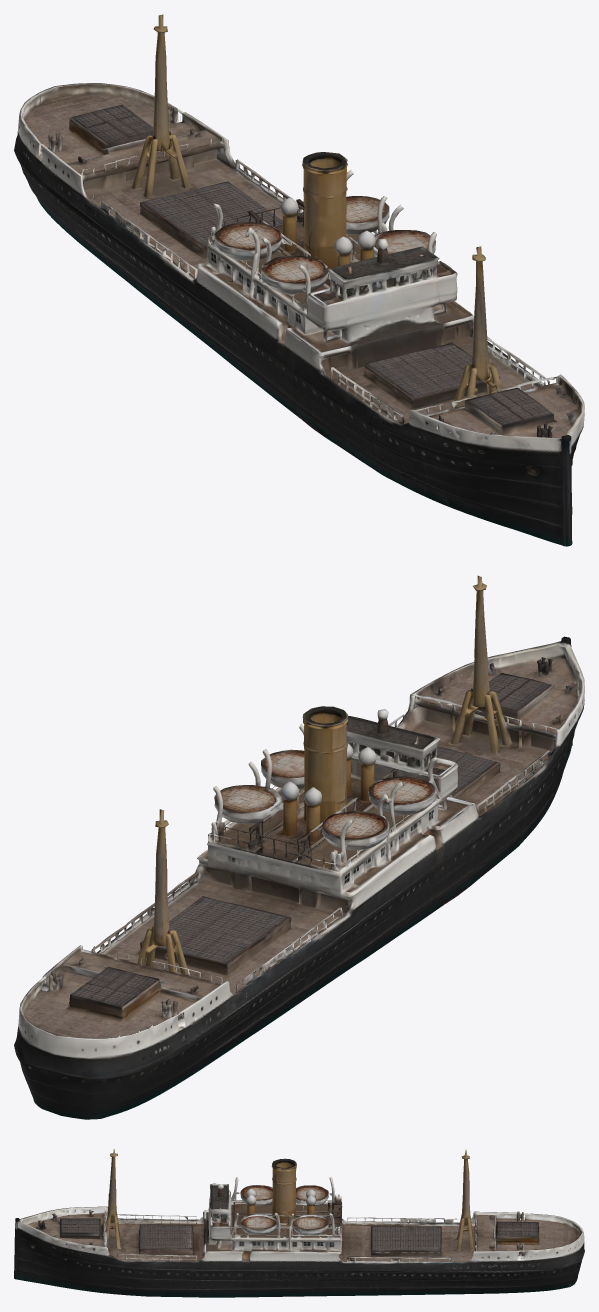
Rendered from vehicle-immigrant-steamer-1948-v2wl.fbx.
3 views of the same model, one above another, from view 1: azimuth 30°, elevation 25°; view 2: azimuth 150°, elevation 25°; view 3: azimuth 270°, elevation 25° (orthographic). The views are drawn at different scales.
Parts seen in each view (by area): view 1: body; view 2: body; view 3: body.
Boxes of the visible parts, x1=… form: body: x1=14, y1=14, x2=584, y2=546; body: x1=14, y1=575, x2=584, y2=1119; body: x1=14, y1=1149, x2=584, y2=1297.
Bounding box in the file's own units: 0.1832 × 0.2448 × 0.9797.
Materials: 1 (1 with a texture image).
